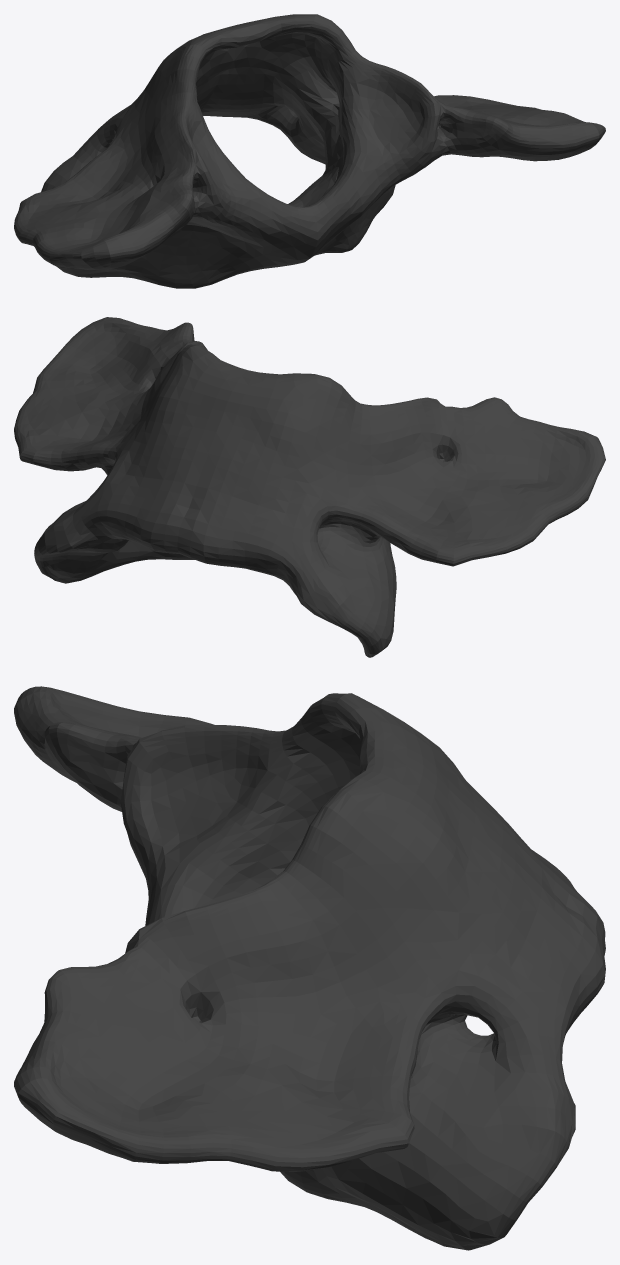
3 renders of one model, top to bottom at view 1: azimuth 30°, elevation 25°; view 2: azimuth 150°, elevation 25°; view 3: azimuth 270°, elevation 25°, orthographic. The views are drawn at different scales.
Parts seen in each view (by area): view 1: B_C1; view 2: B_C1; view 3: B_C1.
Part boxes in pixels (x1,y1,x2,y2): B_C1: [14, 14, 605, 288]; B_C1: [14, 317, 605, 657]; B_C1: [14, 686, 605, 1250].
Size of the model in its own units: 0.00452 by 0.00187 by 0.0026.
1 material, 1 textured.
